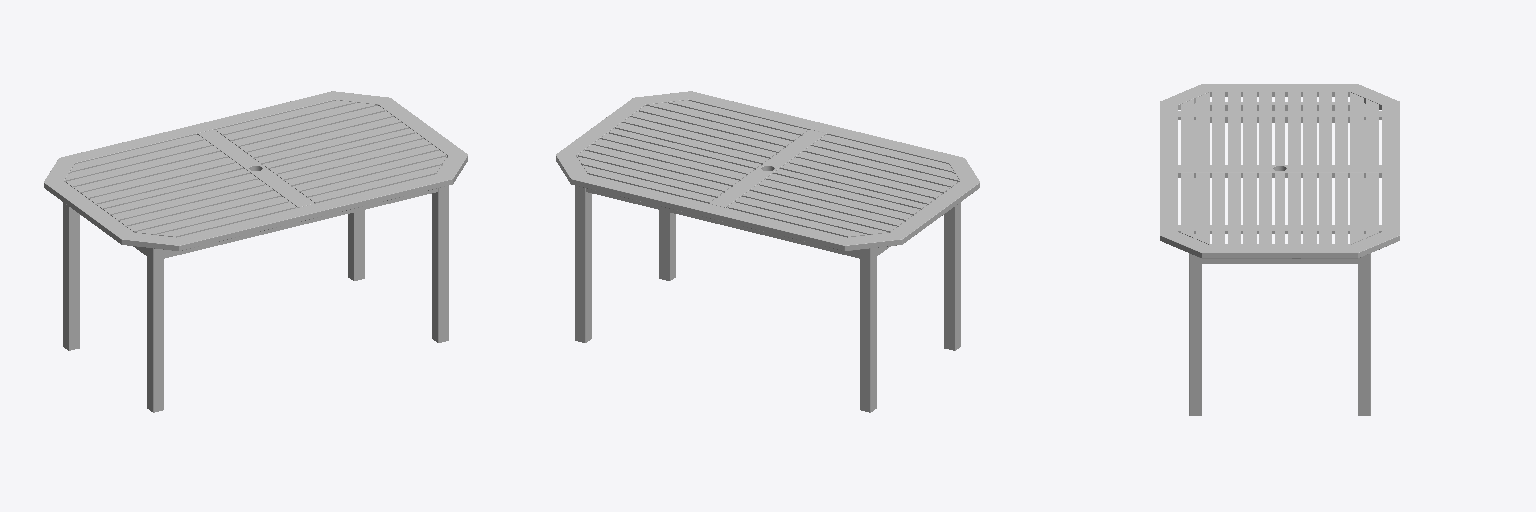
File: Wooden_Table.obj
3 views of the same model, side by side, from view 1: azimuth 30°, elevation 25°; view 2: azimuth 150°, elevation 25°; view 3: azimuth 270°, elevation 25° (orthographic).
Parts seen in each view (by area): view 1: default_1_1; view 2: default_1_1; view 3: default_1_1.
Boxes of the visible parts, box(x1,y1,x2,y2) form: default_1_1: box(44, 91, 467, 412); default_1_1: box(556, 91, 979, 412); default_1_1: box(1160, 84, 1399, 415).
Bounding box in the file's own units: 150 × 72.3 × 90.